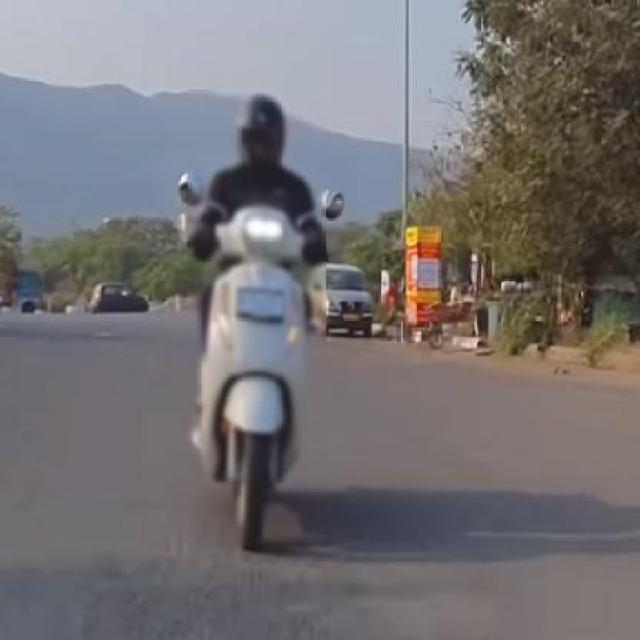helmet: (200, 80, 310, 186)
motorcycle: (150, 69, 347, 556)
